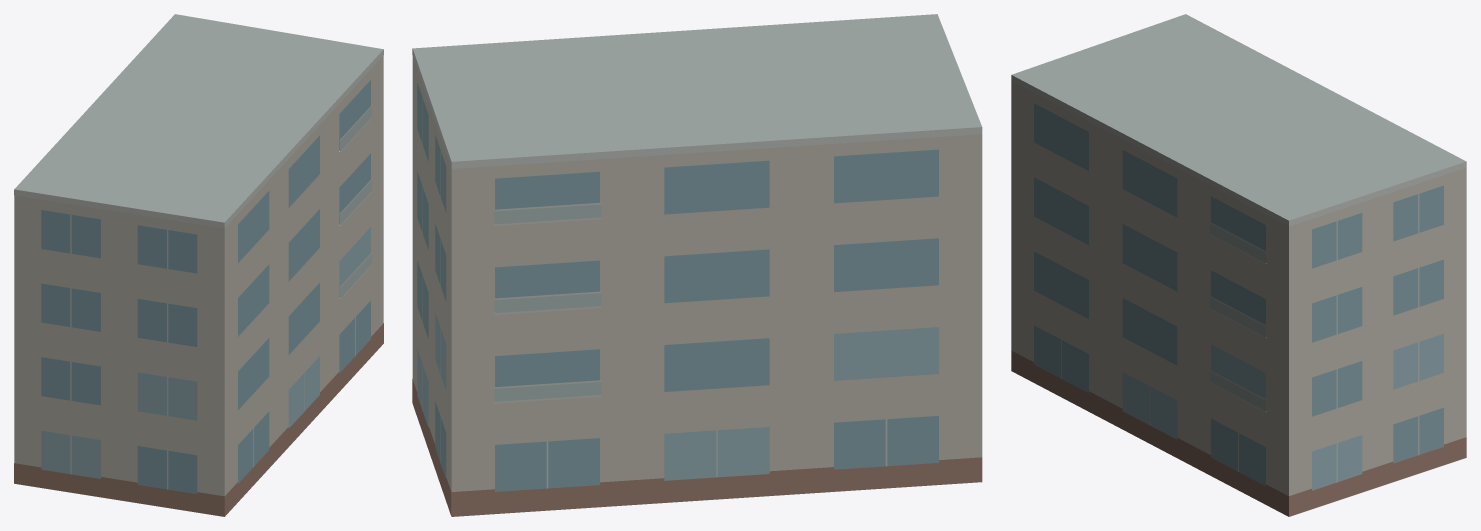
File: survey-upis-32596869.glb
3 renders of one model, left to right at view 1: azimuth 30°, elevation 25°; view 2: azimuth 150°, elevation 25°; view 3: azimuth 270°, elevation 25°, orthographic. The views are drawn at different scales.
Visible parts, largest first — view 1: survey-upis-32596869.tmp; view 2: survey-upis-32596869.tmp; view 3: survey-upis-32596869.tmp.
Part boxes in pixels (bbox=[...]): survey-upis-32596869.tmp: bbox=[14, 14, 383, 516]; survey-upis-32596869.tmp: bbox=[412, 14, 982, 516]; survey-upis-32596869.tmp: bbox=[1011, 14, 1466, 516].
Bounding box in the file's own units: 18.27 × 12.2 × 17.01.
